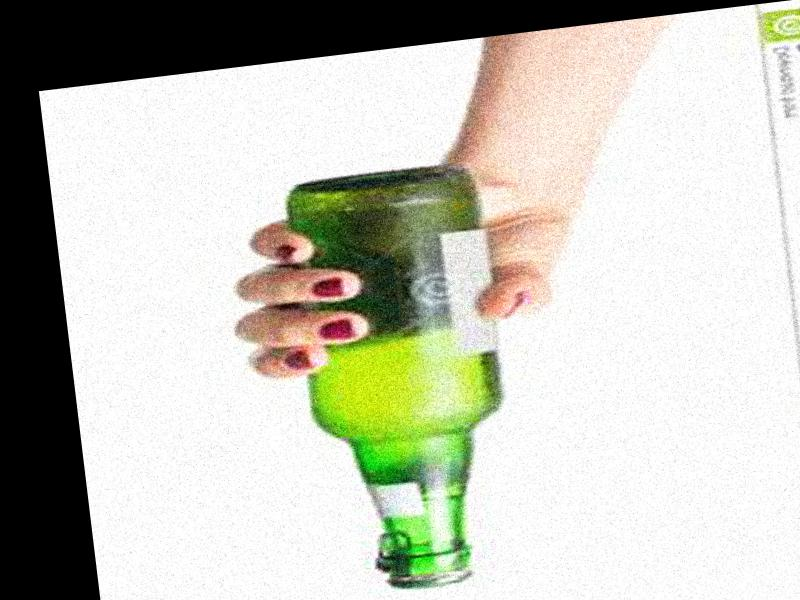Beer: (272, 161, 532, 600)
